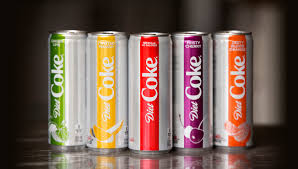coke-can-diet: (45, 26, 89, 148), (131, 27, 170, 156), (176, 26, 213, 157), (216, 26, 252, 155), (92, 28, 127, 150)
